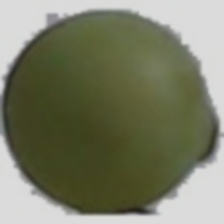grapes: (27, 42, 164, 197)
